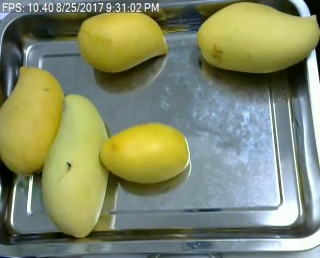Mango: (41, 94, 109, 238), (197, 2, 320, 73), (0, 67, 64, 175), (77, 9, 168, 73), (98, 122, 191, 184)
